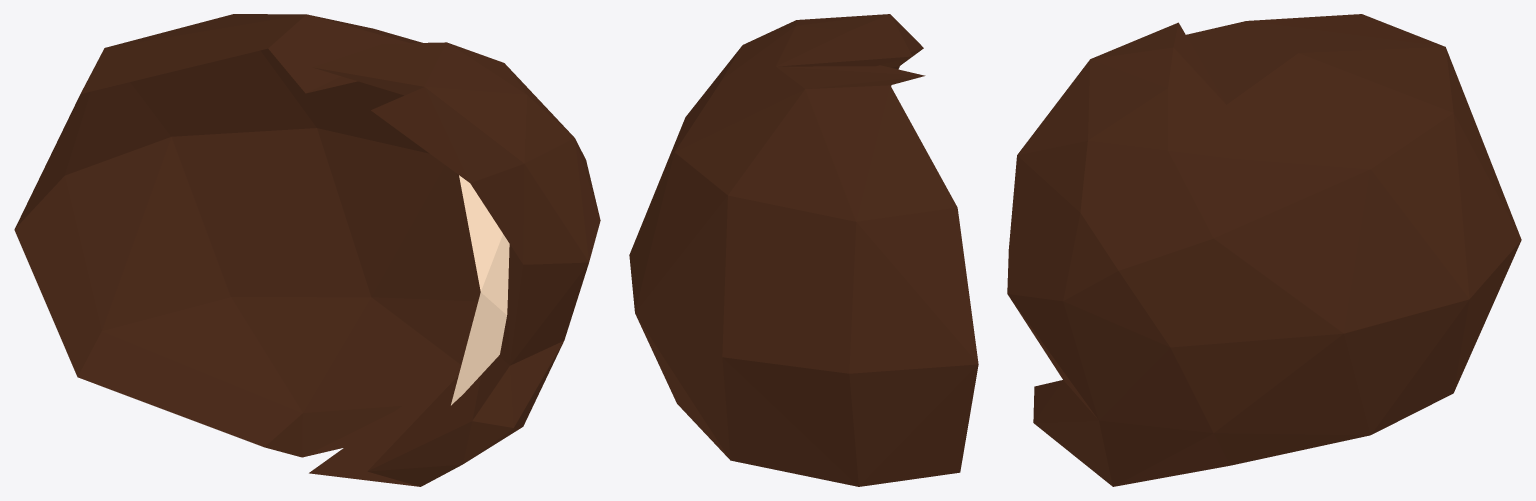
File: hair21.glb
The picture shows the model from 3 angles, left to right: view 1: azimuth 30°, elevation 25°; view 2: azimuth 150°, elevation 25°; view 3: azimuth 270°, elevation 25°; orthographic projection. The views are drawn at different scales.
Parts seen in each view (by area): view 1: tomodachi-2026-03-16-15-36-32-041, tomodachi-2026-03-16-15-36-32-041.001; view 2: tomodachi-2026-03-16-15-36-32-041; view 3: tomodachi-2026-03-16-15-36-32-041.
Part boxes in pixels (x1=…): tomodachi-2026-03-16-15-36-32-041: x1=14, y1=14, x2=600, y2=486; tomodachi-2026-03-16-15-36-32-041.001: x1=451, y1=175, x2=509, y2=405; tomodachi-2026-03-16-15-36-32-041: x1=629, y1=14, x2=978, y2=486; tomodachi-2026-03-16-15-36-32-041: x1=1007, y1=14, x2=1521, y2=486.
Bounding box in the file's own units: 1.18 × 1.11 × 1.22.
2 materials, 2 textured.
